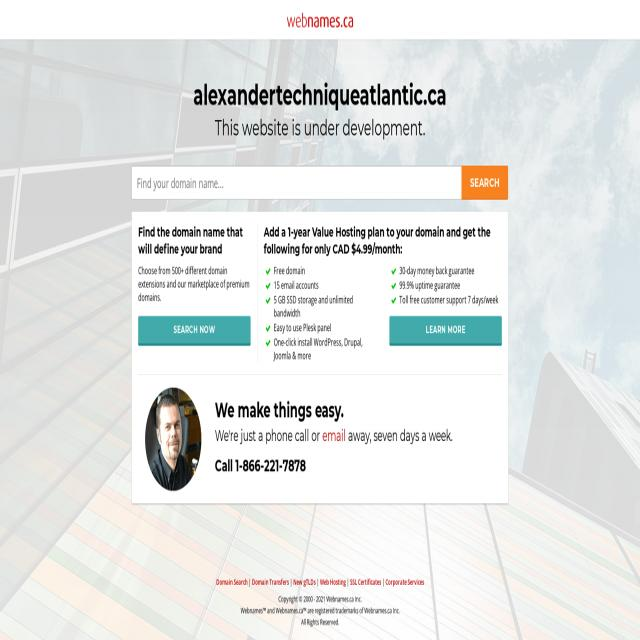button: (144, 388, 201, 490), (138, 316, 251, 343), (389, 316, 502, 343), (462, 166, 508, 200), (287, 12, 353, 27)
field: (132, 166, 462, 200)
